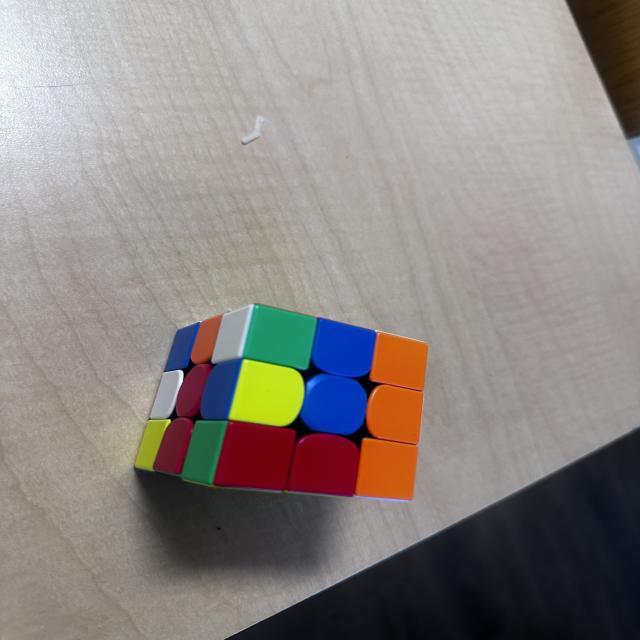sticker: (202, 359, 304, 428), (212, 420, 296, 494), (241, 305, 318, 373), (286, 432, 362, 500), (352, 437, 420, 502), (298, 375, 368, 436), (310, 319, 377, 378), (363, 384, 425, 446), (368, 331, 430, 392), (180, 419, 228, 486), (210, 306, 254, 368), (153, 416, 195, 477), (200, 360, 240, 423), (175, 363, 214, 421), (134, 419, 172, 475), (147, 368, 185, 422), (164, 323, 200, 372), (190, 313, 223, 366)
